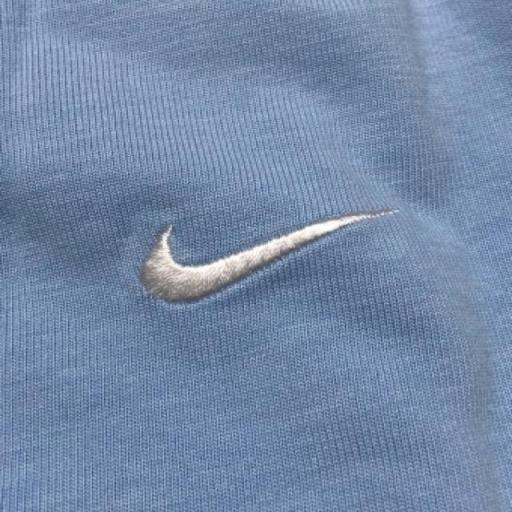Nike: (117, 194, 407, 308)
